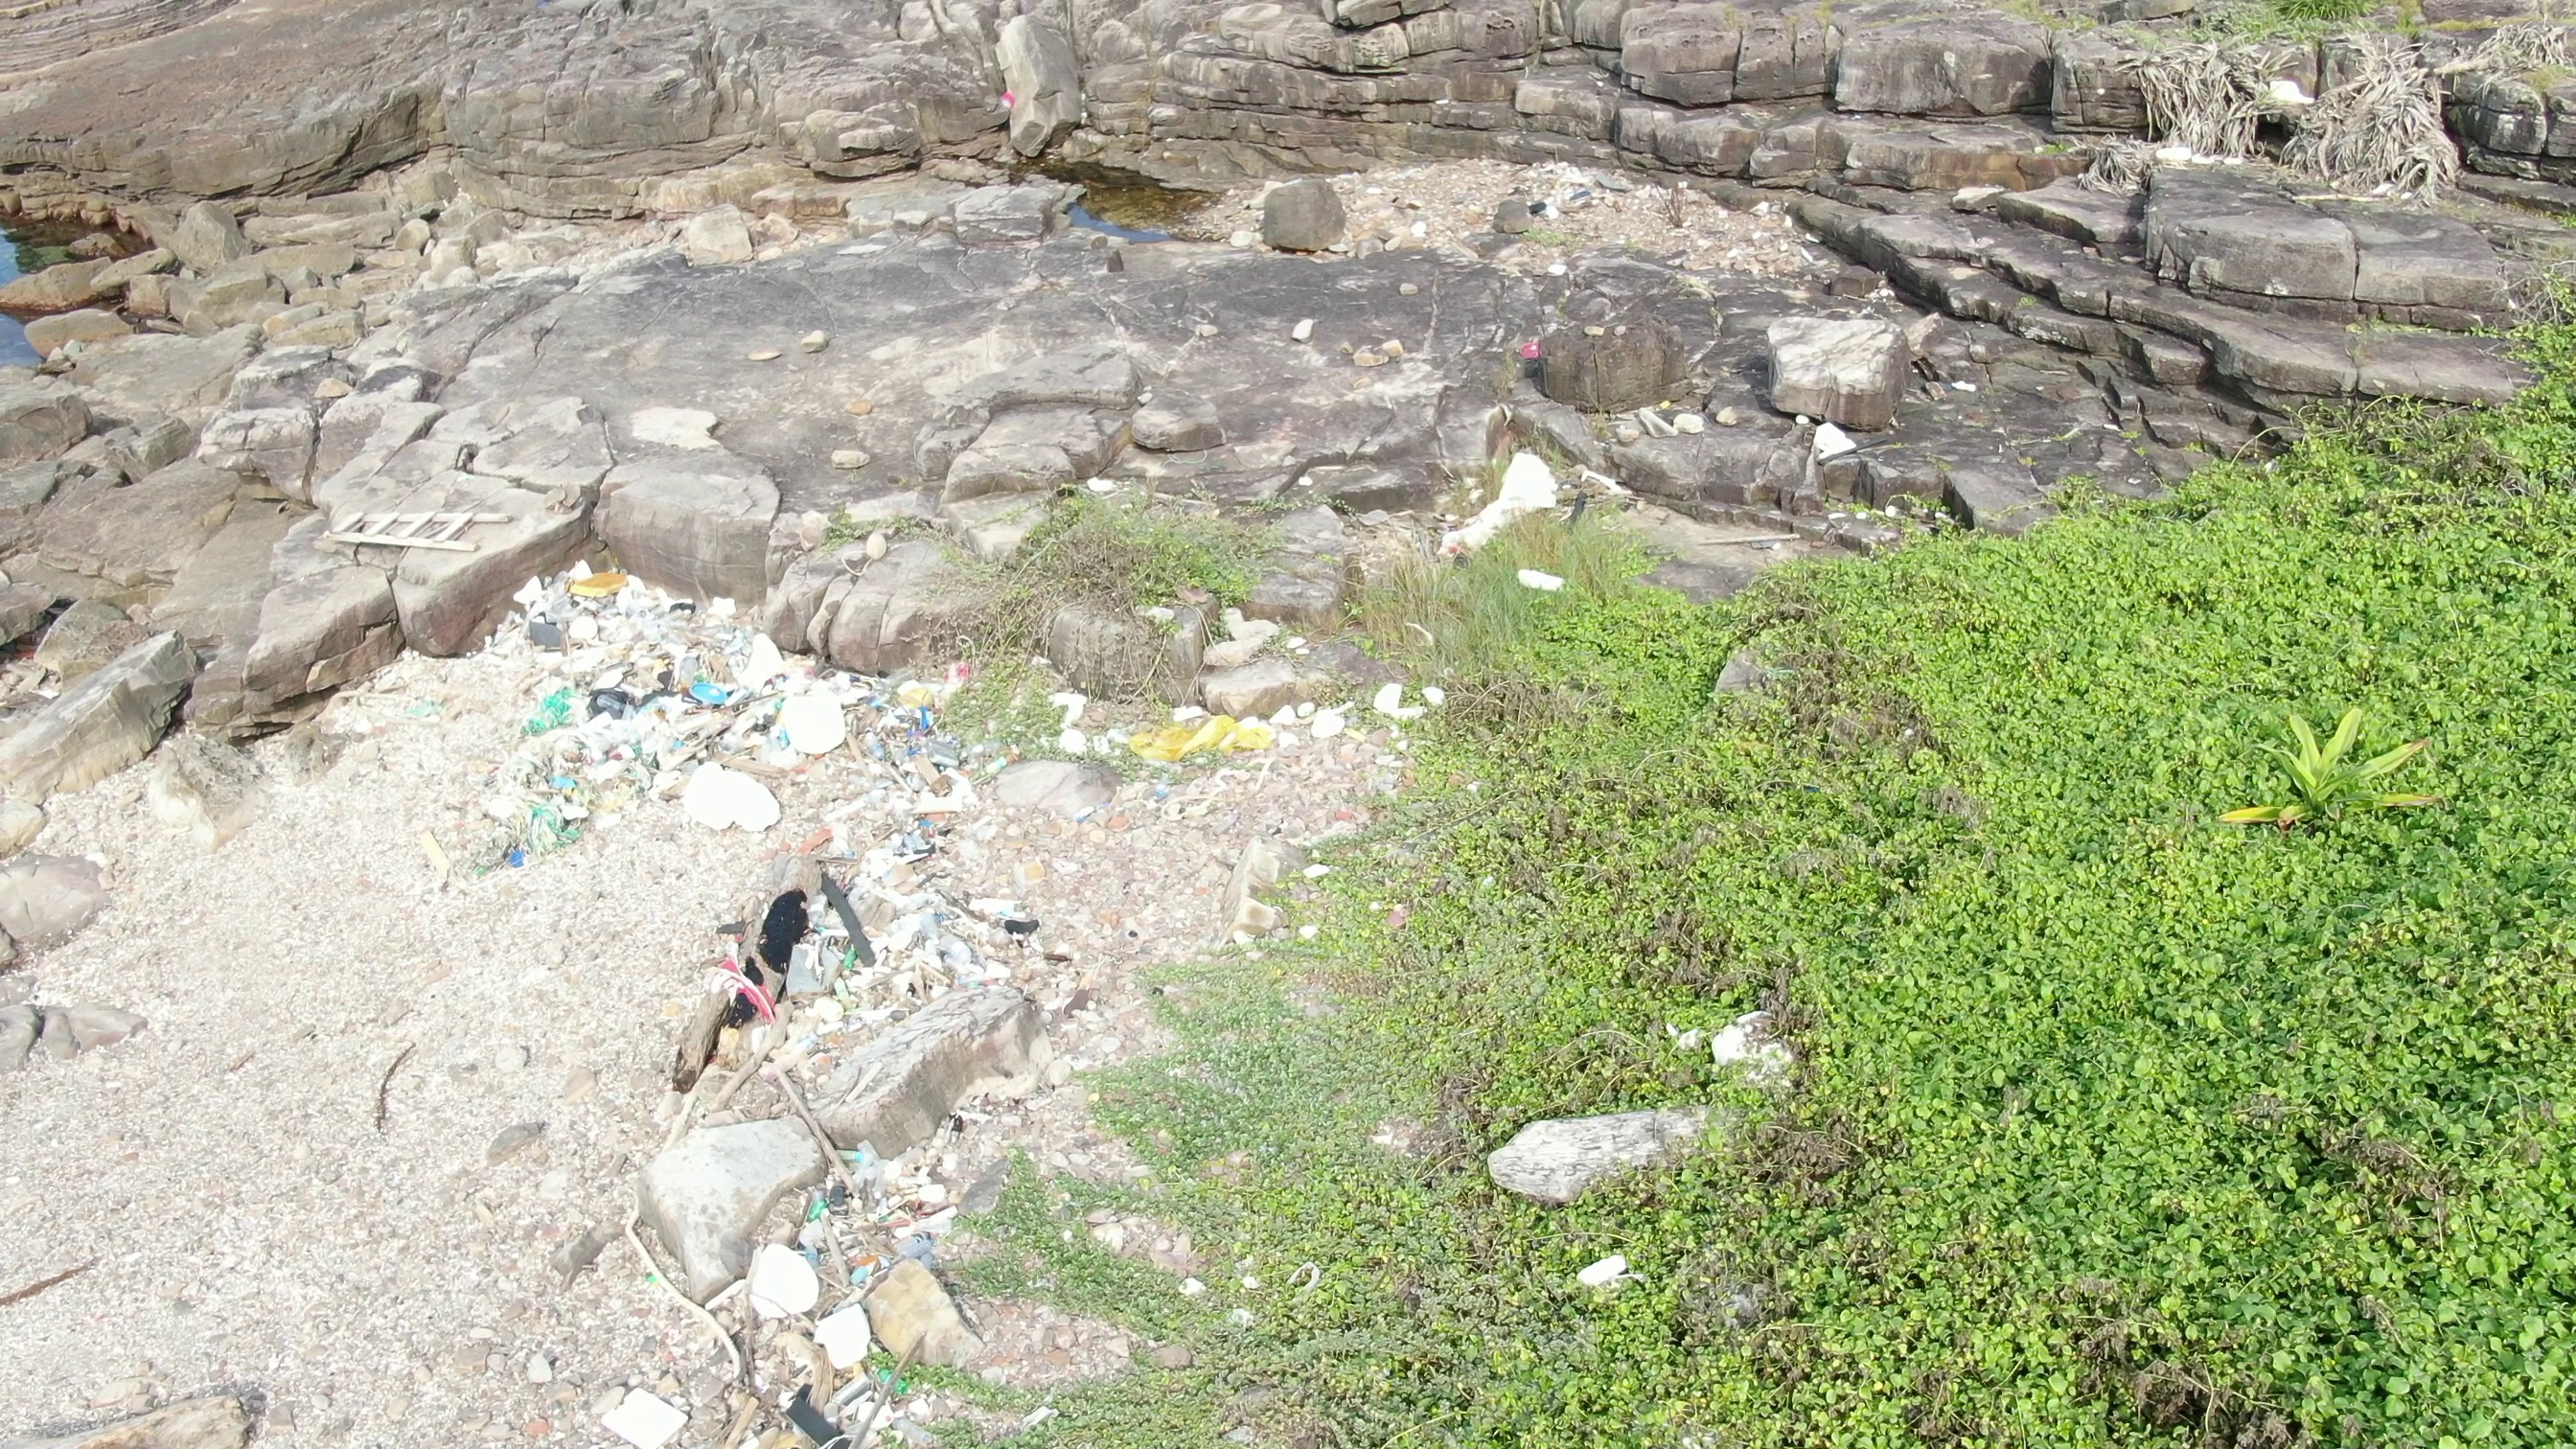garbage: (591, 642, 1023, 1449), (449, 570, 872, 869), (1389, 453, 1606, 564), (320, 499, 520, 564), (1118, 702, 1290, 777), (1506, 149, 1644, 228), (1484, 556, 1589, 612), (1511, 338, 1557, 372), (994, 83, 1031, 122)
